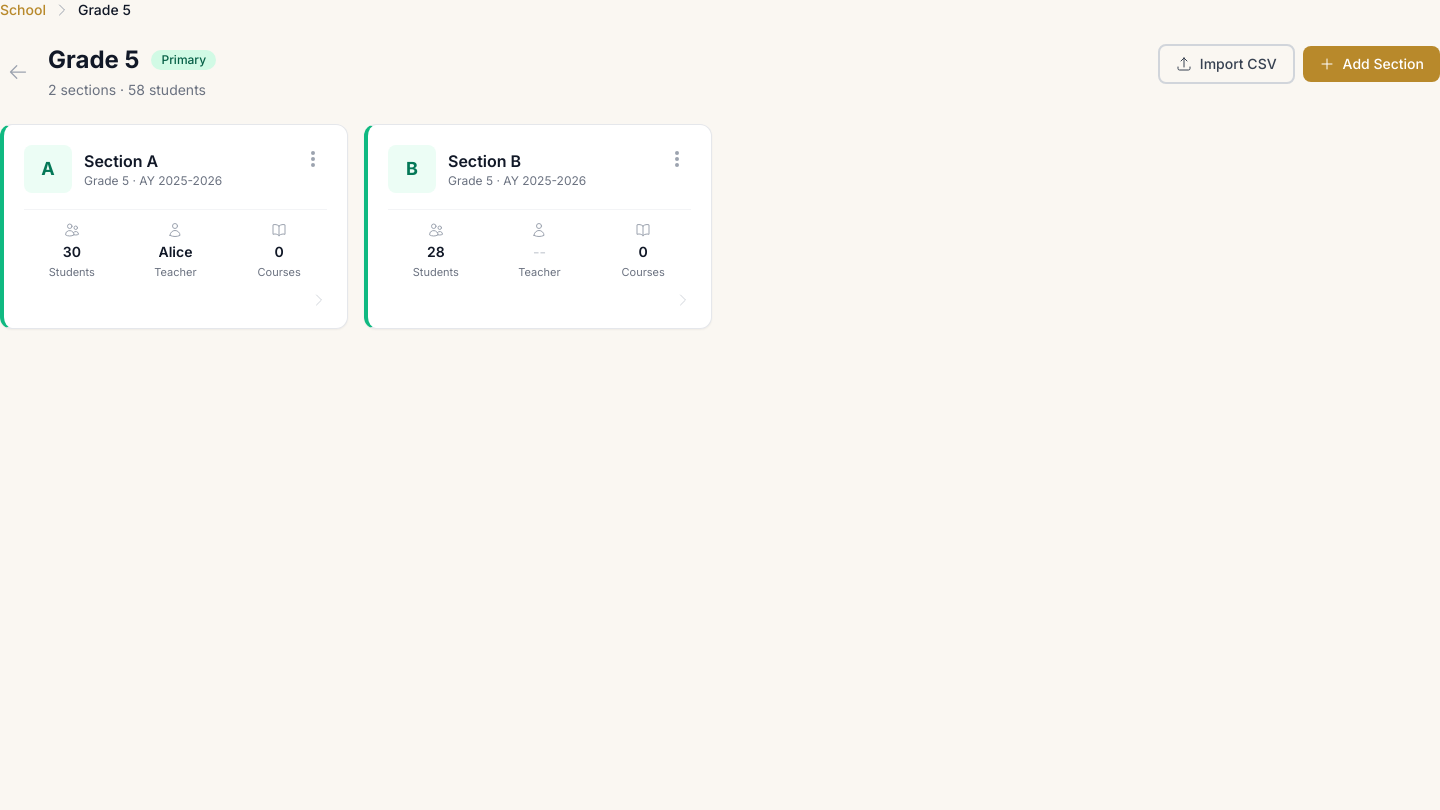
it: GradeDetailPage › 6. Add Section modal › clicking "Add Section" button opens modal with heading "Add Section"
The width and height of the screenshot is (1440, 810).
Click the button "Add Section" at [1371, 64], box [1303,46,1439,82]
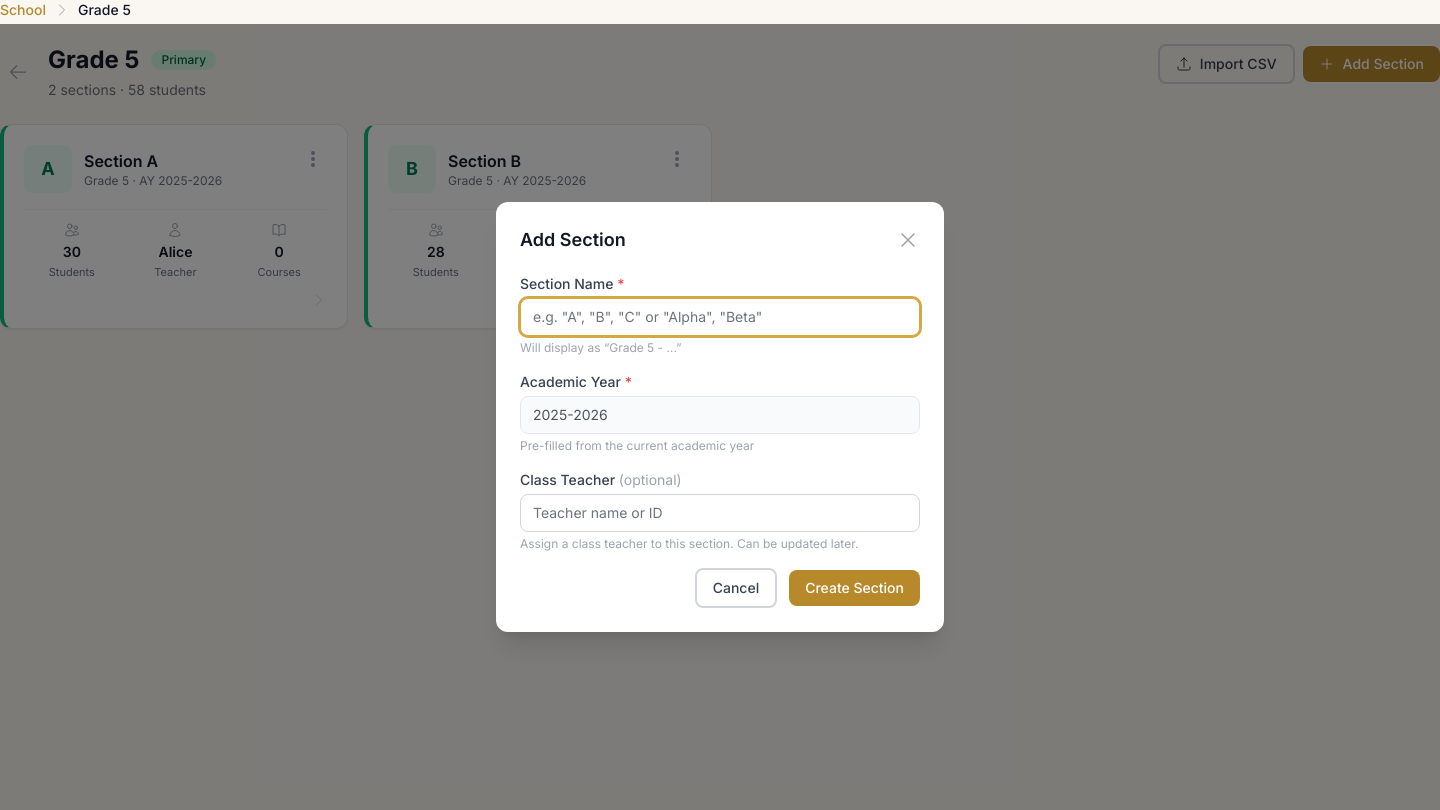
Result: the heading "Add Section" is shown at [520,226,626,254]
